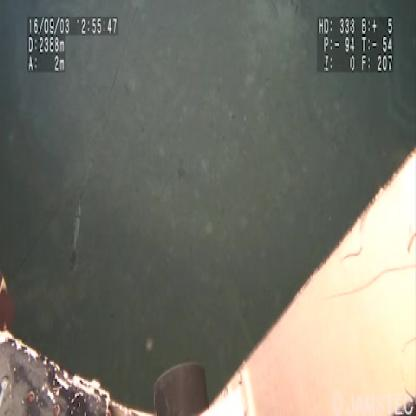Rov: (1, 146, 415, 414)
